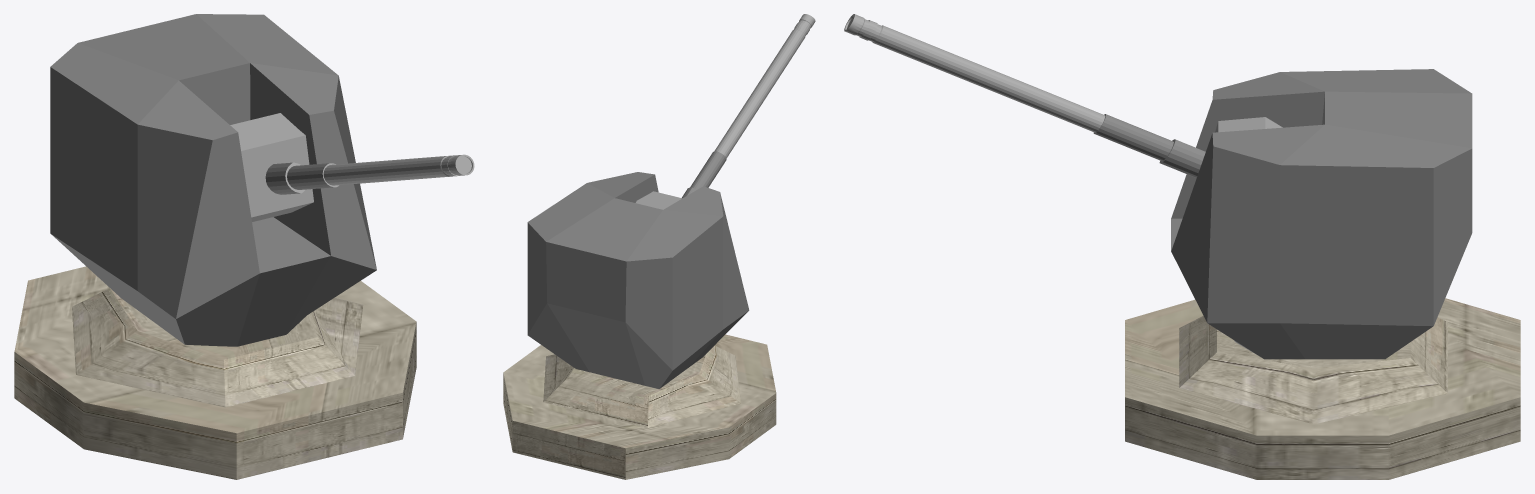
The model's file is GunTurret.fbx.
The picture shows the model from 3 angles, left to right: view 1: azimuth 30°, elevation 25°; view 2: azimuth 150°, elevation 25°; view 3: azimuth 270°, elevation 25°; orthographic projection. The views are drawn at different scales.
Parts seen in each view (by area): view 1: pCube4, GunTurretBase, pCube3, pCylinder1; view 2: pCube4, GunTurretBase, pCylinder1, pCube3; view 3: pCube4, GunTurretBase, pCylinder1, pCube3.
Part boxes in pixels (x1,y1,x2,y2): pCube4: [50, 14, 376, 346]; GunTurretBase: [14, 266, 416, 479]; pCube3: [230, 113, 313, 221]; pCylinder1: [265, 154, 474, 194]; pCube4: [527, 172, 749, 388]; GunTurretBase: [503, 334, 776, 479]; pCylinder1: [682, 14, 815, 198]; pCube3: [636, 191, 682, 209]; pCube4: [1171, 69, 1472, 359]; GunTurretBase: [1125, 298, 1520, 479]; pCylinder1: [844, 14, 1205, 177]; pCube3: [1215, 117, 1282, 132].
Size of the model in its own units: 8.03 by 9.44 by 14.91.
